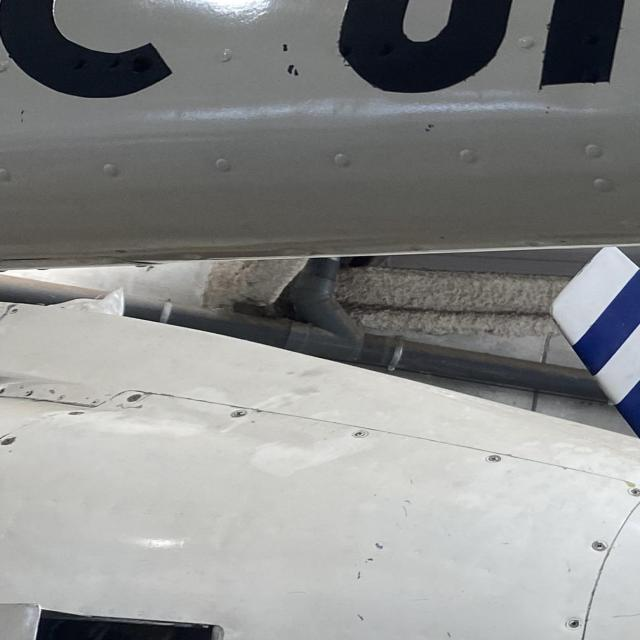Paint-off: (349, 557, 383, 582), (360, 537, 386, 561), (437, 623, 460, 640), (347, 611, 371, 627)
Scratch: (611, 610, 640, 618)
